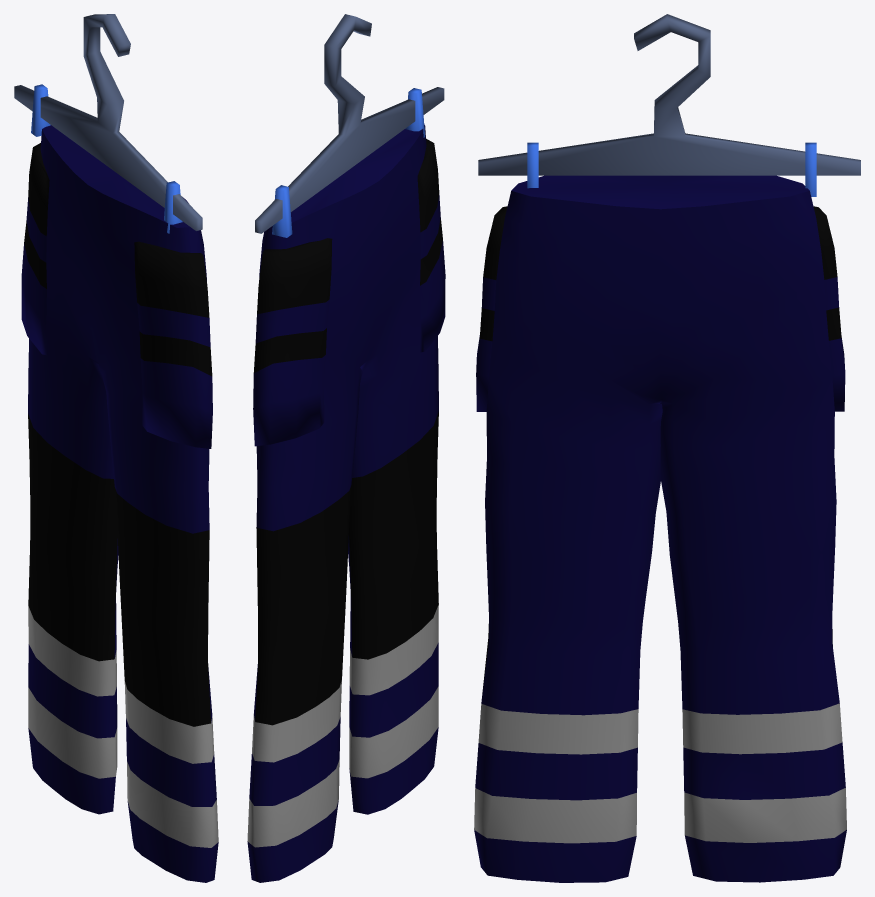
The model's file is special_pants2.fbx.
3 renders of one model, left to right at view 1: azimuth 30°, elevation 25°; view 2: azimuth 150°, elevation 25°; view 3: azimuth 270°, elevation 25°, orthographic. The views are drawn at different scales.
Visible parts, largest first — view 1: pants1.001; view 2: pants1.001; view 3: pants1.001.
Part boxes in pixels (x1,y1,x2,y2): pants1.001: [14, 14, 218, 882]; pants1.001: [247, 14, 445, 882]; pants1.001: [474, 14, 860, 882].
Bounding box in the file's own units: 0.2082 × 2.38 × 0.9759.
